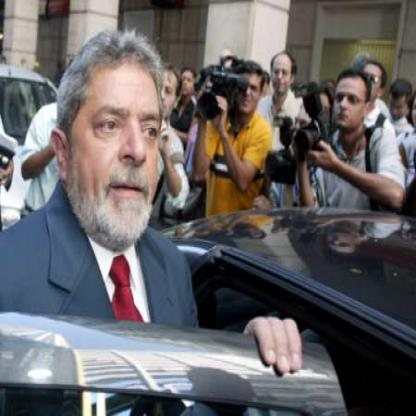face: (67, 35, 171, 250), (333, 72, 368, 131), (153, 67, 180, 121), (239, 61, 263, 115), (360, 61, 383, 102), (272, 54, 294, 95), (390, 84, 409, 125), (182, 71, 197, 96)
